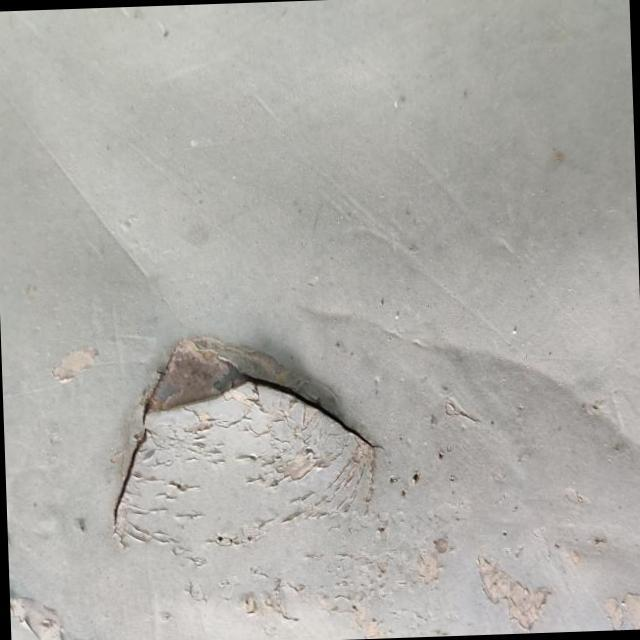Rupture: (85, 292, 421, 559)
